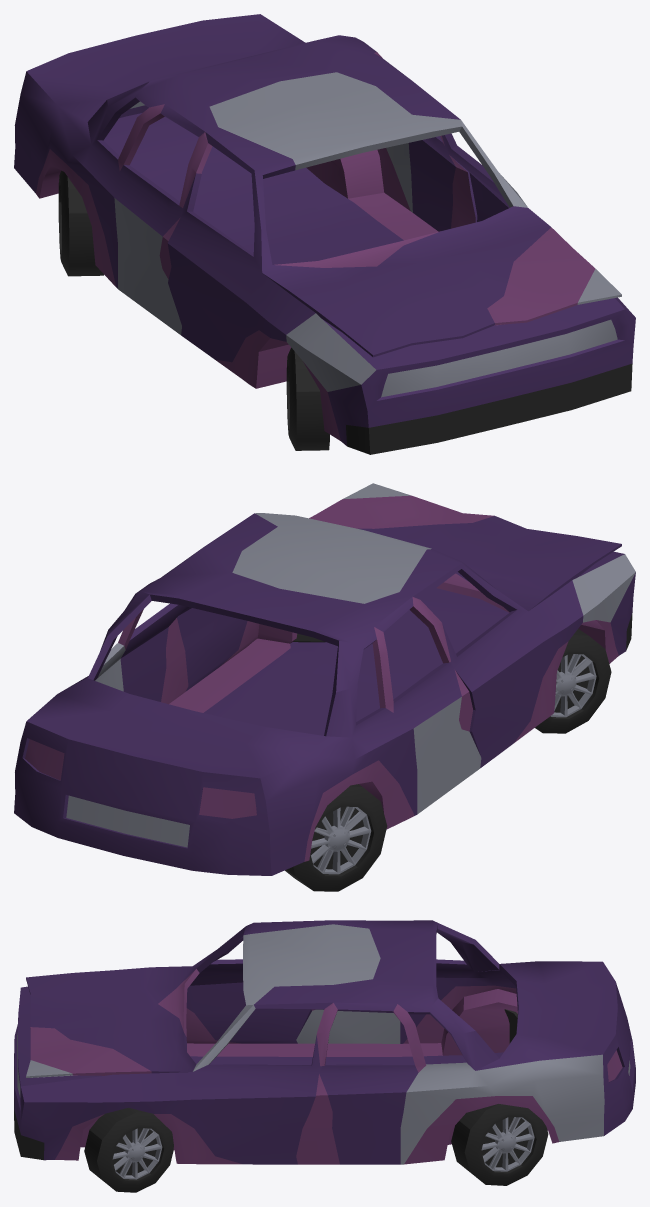
File: Broken Car 2.glb
3 renders of one model, top to bottom at view 1: azimuth 30°, elevation 25°; view 2: azimuth 150°, elevation 25°; view 3: azimuth 270°, elevation 25°, orthographic. The views are drawn at different scales.
Parts seen in each view (by area): view 1: Debris_BrokenCar; view 2: Debris_BrokenCar; view 3: Debris_BrokenCar.
Boxes of the visible parts, <box> form: Debris_BrokenCar: <box>14,14,635,454</box>; Debris_BrokenCar: <box>14,483,635,891</box>; Debris_BrokenCar: <box>14,920,635,1192</box>.
Size of the model in its own units: 2.64 by 1.76 by 5.49.
